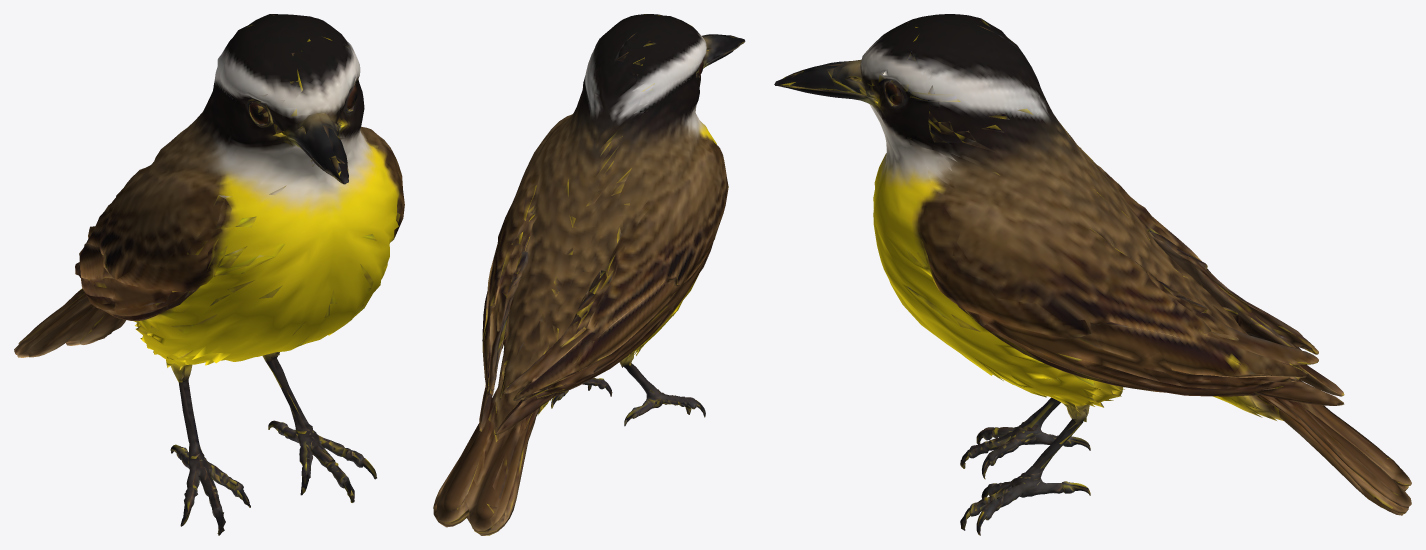
The model's file is Meshy_AI_great_kiskadee_bird_1012030546_texture.glb.
3 views of the same model, side by side, from view 1: azimuth 30°, elevation 25°; view 2: azimuth 150°, elevation 25°; view 3: azimuth 270°, elevation 25° (orthographic). The views are drawn at different scales.
Visible parts, largest first — view 1: mesh_0; view 2: mesh_0; view 3: mesh_0.
Part boxes in pixels (<box>): mesh_0: <box>14,14,404,535</box>; mesh_0: <box>433,14,745,535</box>; mesh_0: <box>774,14,1411,535</box>.
Bounding box in the file's own units: 0.394 × 0.7871 × 0.9507.
1 material, 1 textured.
